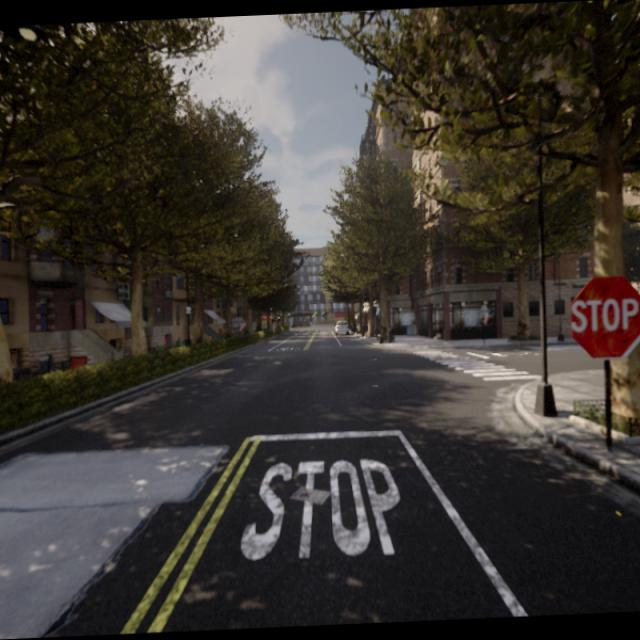stop sign: (568, 271, 638, 360), (570, 295, 638, 334)
